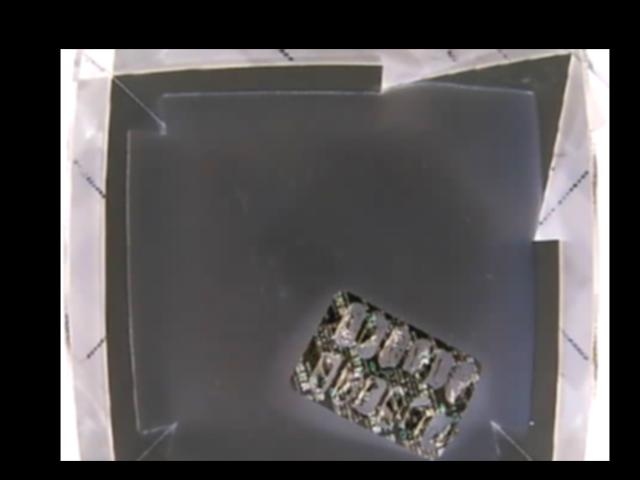Medicine: (285, 291, 479, 459)
